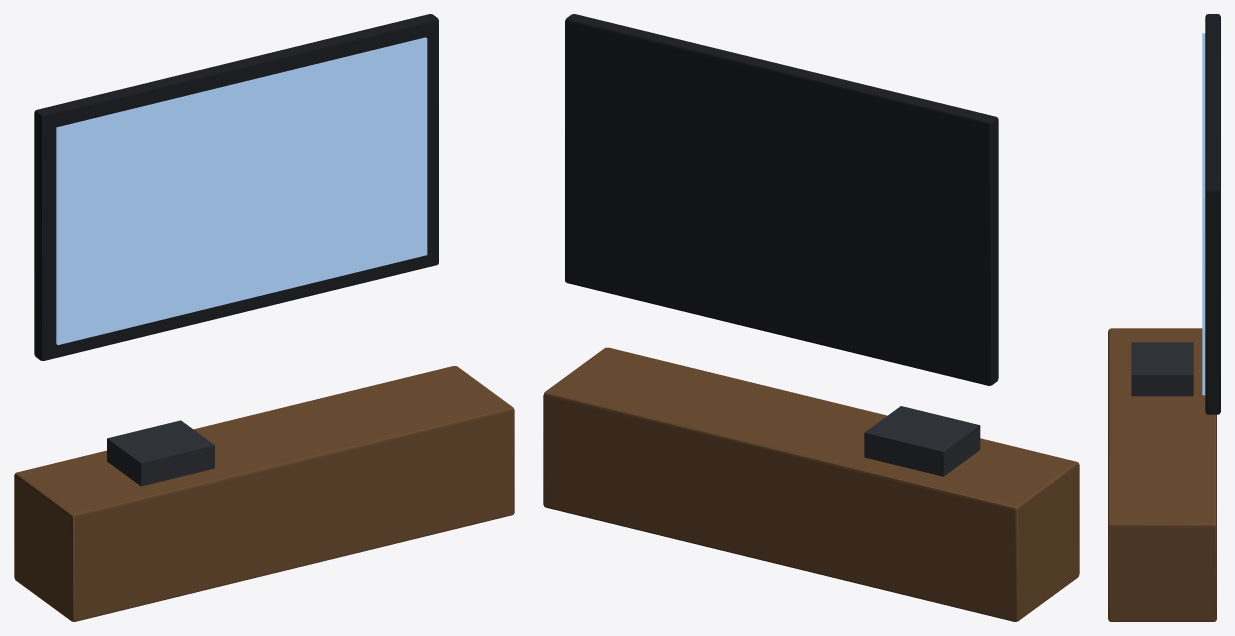
File: tv-wall.glb
3 renders of one model, left to right at view 1: azimuth 30°, elevation 25°; view 2: azimuth 150°, elevation 25°; view 3: azimuth 270°, elevation 25°, orthographic. The views are drawn at different scales.
Parts seen in each view (by area): view 1: part-tv-picture, part-wood, part-tv-frame, part-console; view 2: part-tv-frame, part-wood, part-console; view 3: part-wood, part-tv-frame, part-console, part-tv-picture.
Part boxes in pixels (x1,y1,x2,y2): part-tv-picture: (56, 37, 427, 344); part-wood: (14, 366, 514, 621); part-tv-frame: (34, 14, 438, 360); part-console: (107, 420, 214, 486); part-tv-frame: (565, 14, 998, 385); part-wood: (543, 347, 1079, 621); part-console: (864, 406, 980, 476); part-wood: (1108, 328, 1216, 621); part-tv-frame: (1205, 14, 1220, 414); part-console: (1131, 342, 1193, 396); part-tv-picture: (1202, 33, 1205, 395).
Bounding box in the file's own units: 60 × 60 × 14.5.
